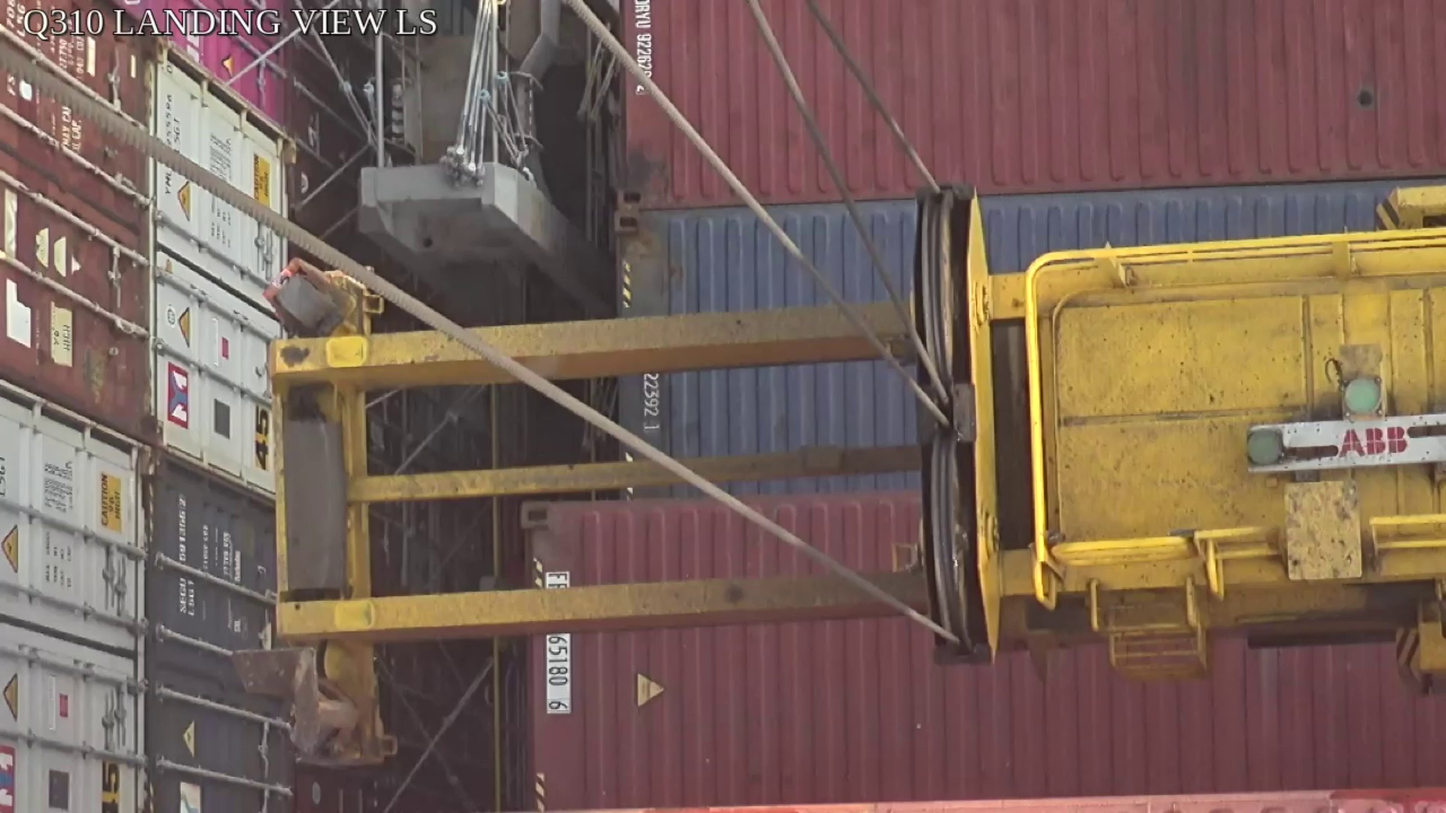aa: (906, 184, 1008, 665)
